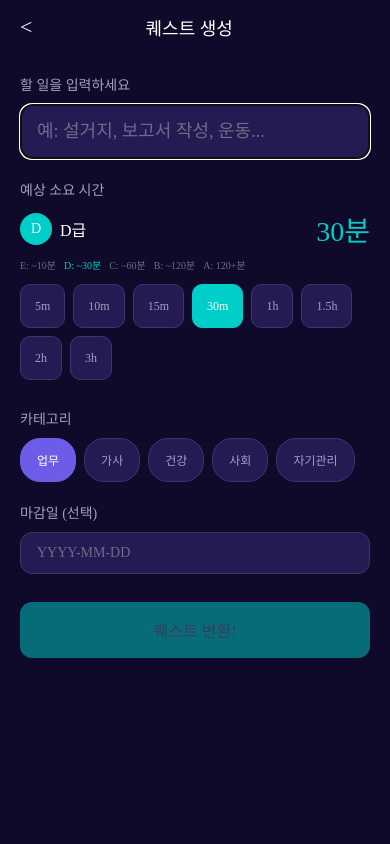
Scenario: QuestCreateScreen › step 3: shows generated quest result with title, story, checkpoints
The image size is (390, 844).
Type "설거지" into the field with placeholder "예: 설거지, 보고서 작성, 운동..." at x=195, y=132, box [20,104,370,159]
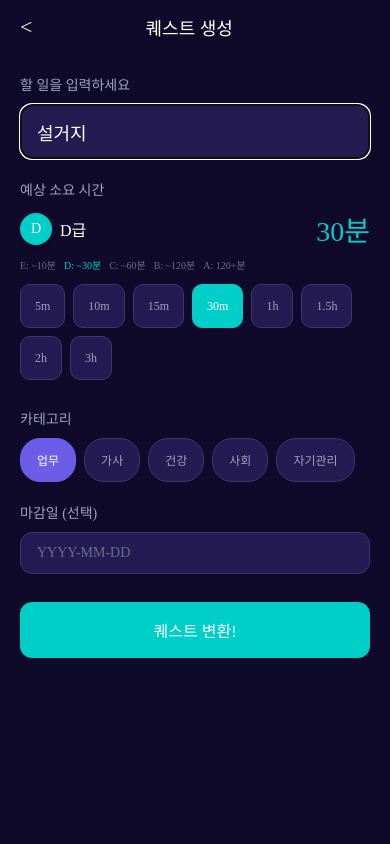
Click the text "퀘스트 변환!" at x=195, y=630, box [154,618,236,642]
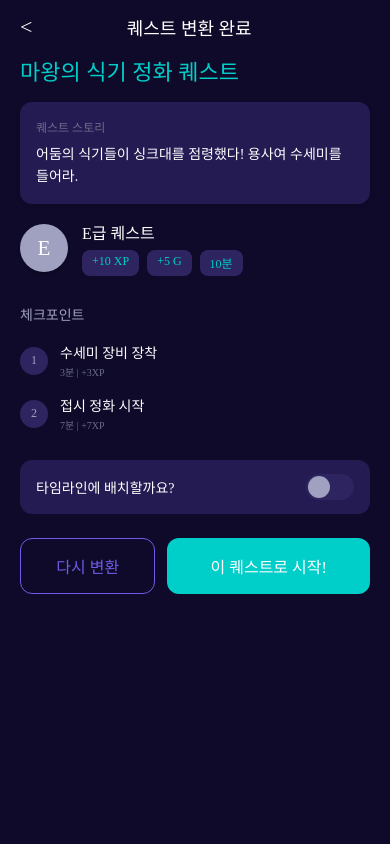
Expected: the text "퀘스트 변환 완료" is shown, [127,14,252,40]
Expected: the text "마왕의 식기 정화 퀘스트" is shown, [20,60,239,85]
Expected: the text "어둠의 식기들이 싱크대를 점령했다! 용사여 수세미를 들어라." is shown, [36,144,354,188]
